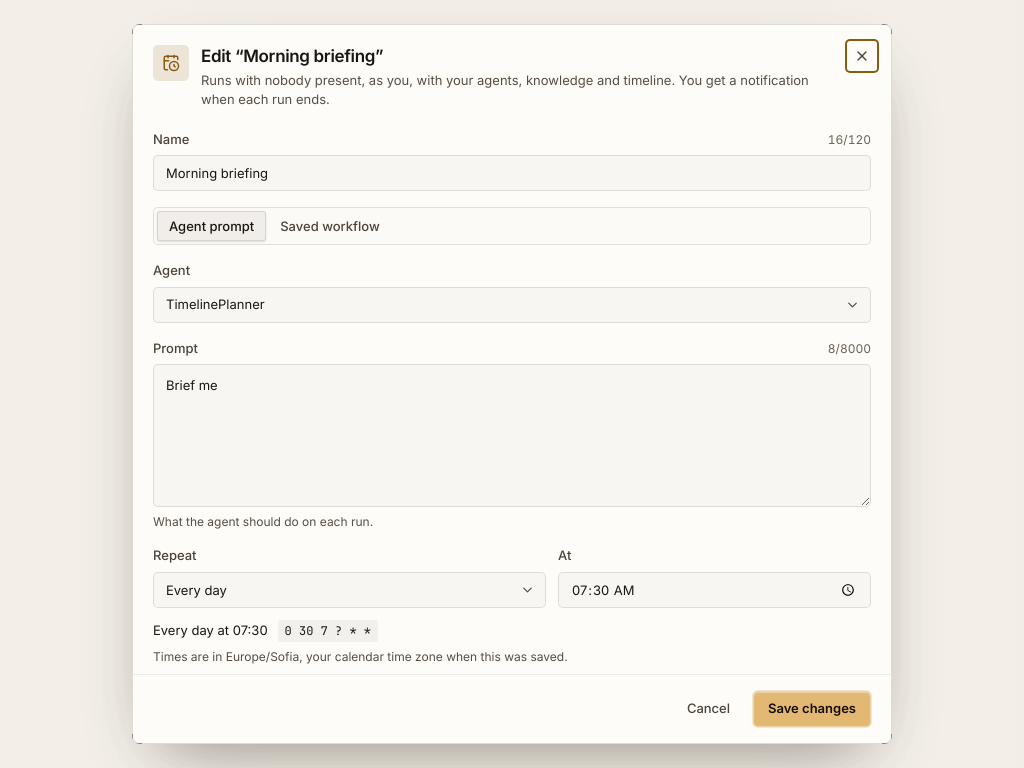
Test: ScheduleDialog › shows the server's reason when saving fails
Click the button with test id "schedule-save". click: (812, 709)
box: x1=753 y1=691 x2=871 y2=727
(page scrolled)
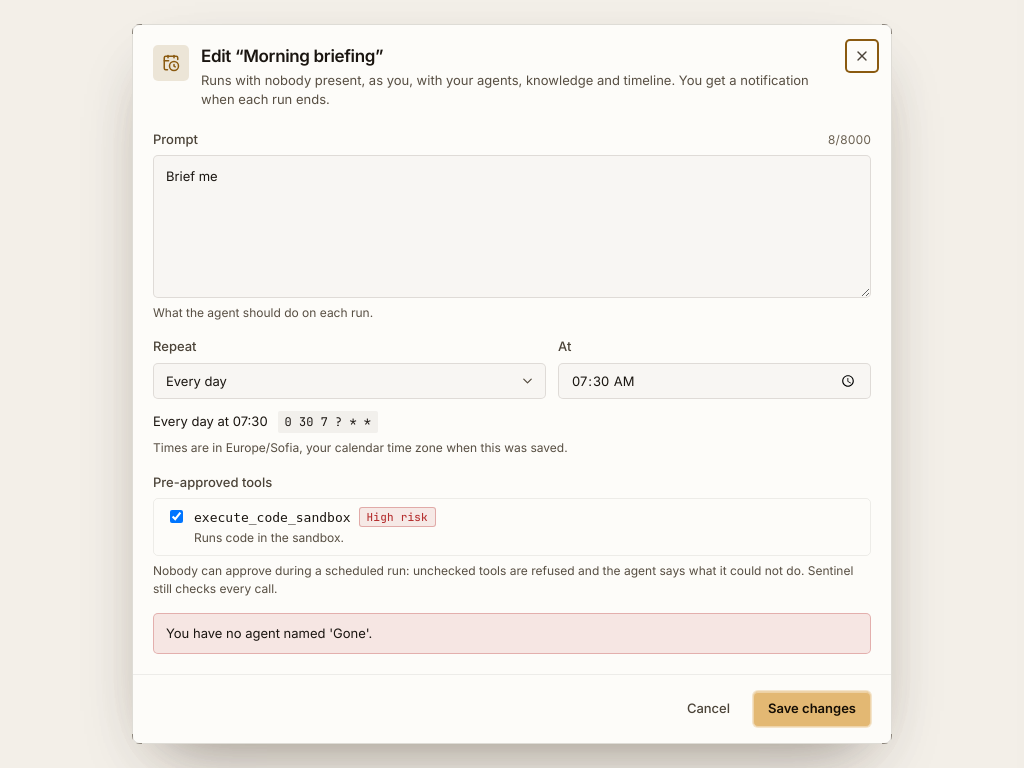
Result: the text "You have no agent named 'Gone'." is shown at x1=166 y1=624 x2=372 y2=643
